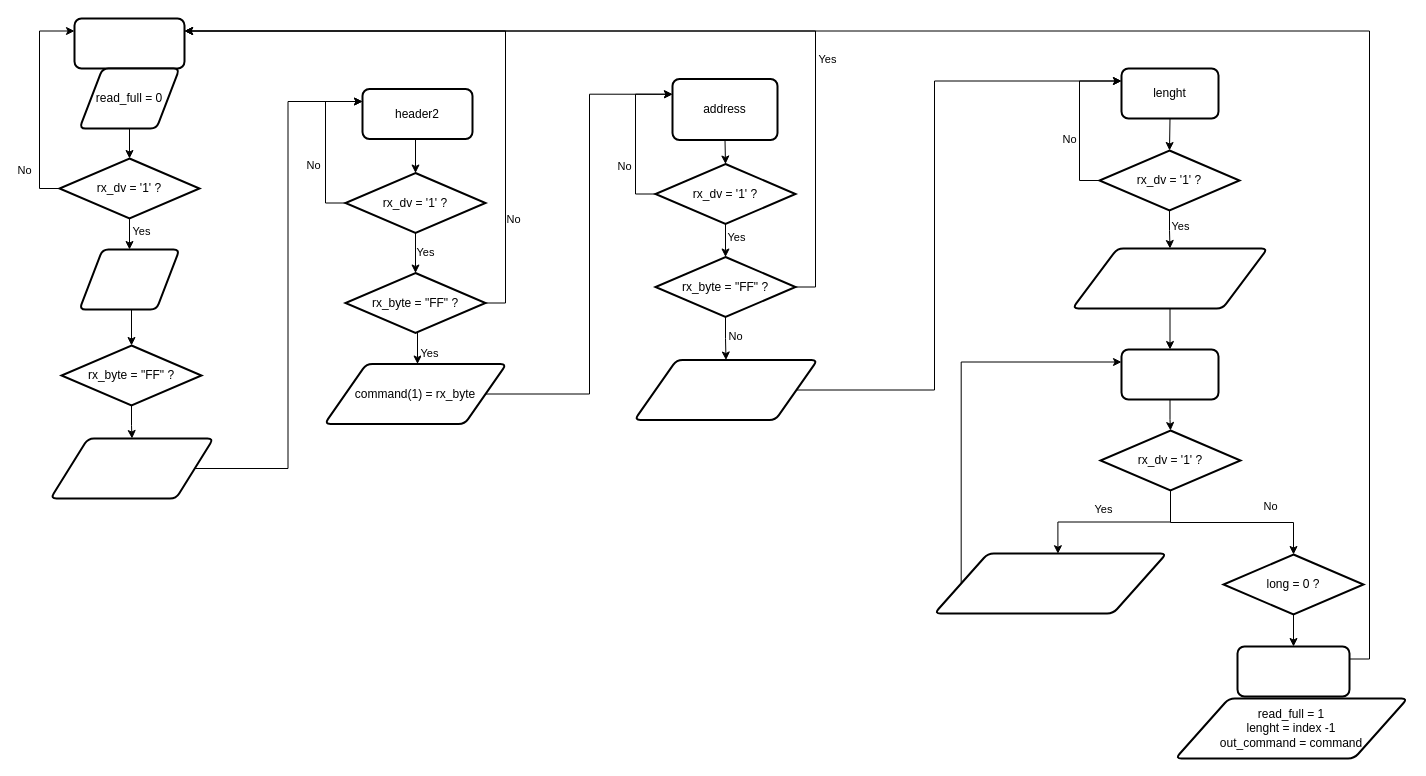
Some shapes in this 1426 by 776 pixel diagram are drawn without their labels. Here are the shapes that lost their labels. From the top down, the box of each, then its label:
(73, 17, 185, 69): header1
(78, 248, 180, 310): index = 0
(1071, 247, 1268, 309): long = rx_byte command(3) = rx_byte index = 4
(633, 358, 818, 420): command(2) = rx_byte
(1120, 348, 1219, 400): parameters
(49, 437, 214, 499): command(0) = rx_byte
(933, 552, 1167, 614): long = long -1 command(index) = rx_byte index = index + 1
(1236, 645, 1350, 697): check
